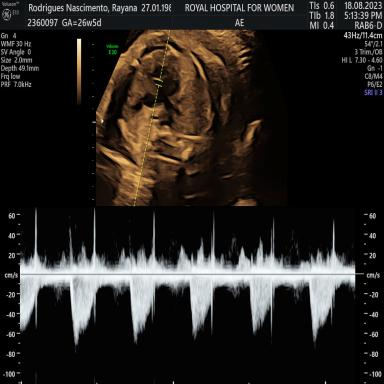Ultrasound-Waves: (25, 209, 354, 384)
